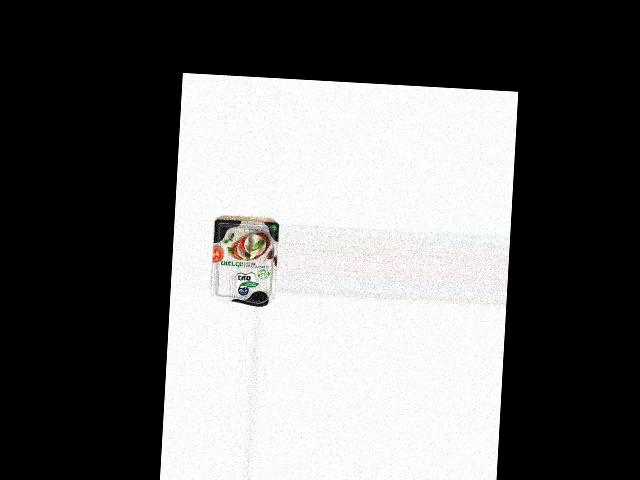cheese: (209, 218, 279, 306)
